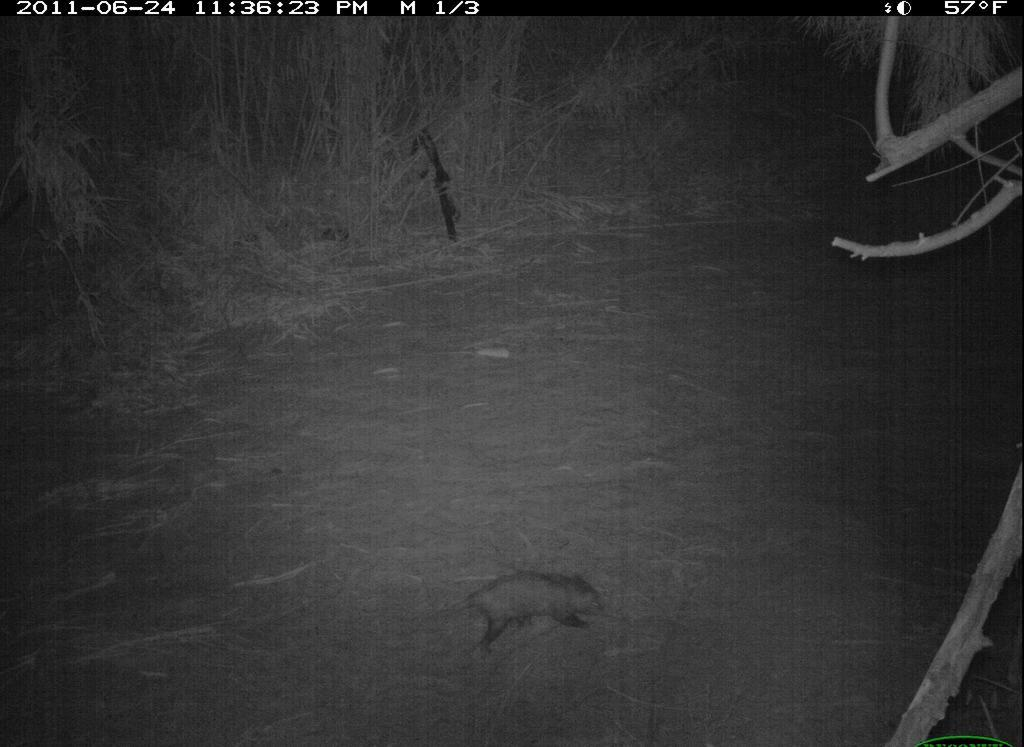opossum: (422, 560, 617, 670)
